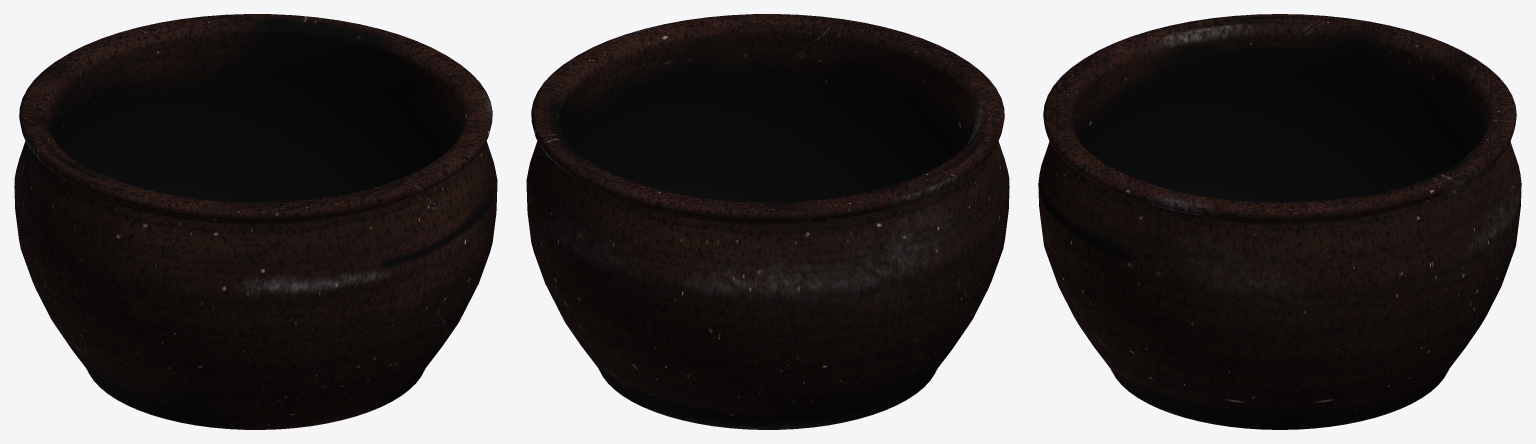
File: SM_DarkBrownSmallCup.fbx
3 renders of one model, left to right at view 1: azimuth 30°, elevation 25°; view 2: azimuth 150°, elevation 25°; view 3: azimuth 270°, elevation 25°, orthographic.
Visible parts, largest first — view 1: SM_DarkBrownSmallCup; view 2: SM_DarkBrownSmallCup; view 3: SM_DarkBrownSmallCup.
Part boxes in pixels (x1=…): SM_DarkBrownSmallCup: x1=14, y1=14, x2=497, y2=429; SM_DarkBrownSmallCup: x1=526, y1=14, x2=1009, y2=429; SM_DarkBrownSmallCup: x1=1038, y1=14, x2=1521, y2=429.
Bounding box in the file's own units: 10.53 × 5.96 × 10.53.
1 material, 1 textured.
